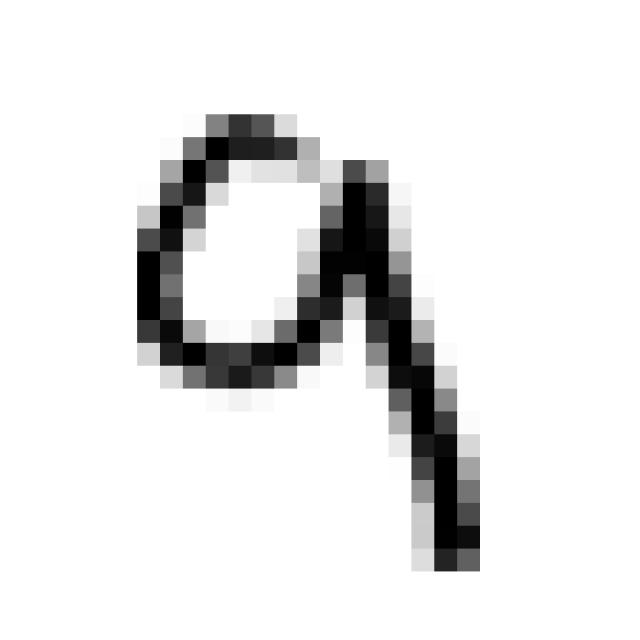9 -nine-: (108, 89, 514, 594)
